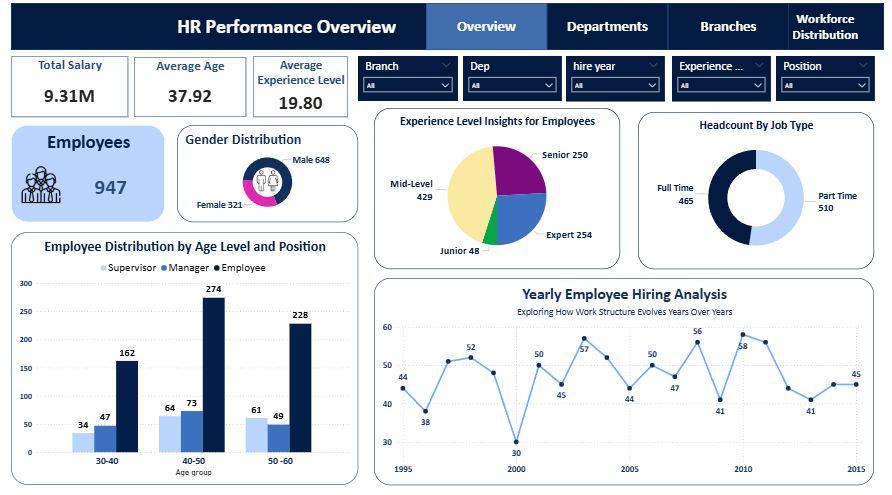

This screenshot's page, from the dashboard's own definition file:
{"tool":"powerbi","page":{"name":"HR Overview","canvas":[1610,900],"ordinal":1},"visuals":[{"type":"shape","box":[19.8,10.8,992.6,84.6],"z":0,"group":"g2"},{"type":"slicer","fields":{"Values":["Employee Database.Branch"]},"box":[643.5,106.6,179.9,80.8],"z":0,"group":"g1"},{"type":"slicer","fields":{"Values":["Employee Database.Position"]},"box":[1396,106.6,177.9,80.9],"z":0,"group":"g3"},{"type":"cardVisual","title":"Employees ","fields":{"Data":["Employee Database.Count of employees"]},"box":[19.8,230.4,277.2,174.6],"z":0},{"type":"shape","box":[767,10.8,217.8,84.6],"z":1000,"group":"g2"},{"type":"shape","box":[1380.6,10.8,210.6,84.6],"z":1000},{"type":"group","id":"g1","title":"Group 2","box":[643.5,106.6,743.6,80.9],"z":1000,"group":"g3"},{"type":"slicer","fields":{"Values":["Employee Database.Dep"]},"box":[832.6,106.6,177.9,80.8],"z":1000,"group":"g1"},{"type":"shape","box":[984.8,10.8,217.7,84.6],"z":2000,"group":"g2"},{"type":"card","title":"Average Experience Level","fields":{"Values":["Employee Database.average year of service"]},"box":[455.4,106.2,171,109.8],"z":2000},{"type":"slicer","fields":{"Values":["Employee Database.hire year"]},"box":[1018.6,106.6,178.4,81.6],"z":2000,"group":"g1"},{"type":"shape","box":[1202.5,10.8,217.7,84.6],"z":3000,"group":"g2"},{"type":"slicer","fields":{"Values":["Employee Database.Experience Level"]},"box":[1209.2,106.6,177.9,81.6],"z":3000,"group":"g1"},{"type":"clusteredColumnChart","title":"Employee Distribution by Age Level and Position","fields":{"Y":["Employee Database.Count of employees"],"Category":["Employee Database.Age group"],"Series":["Employee Database.Position"]},"box":[19.8,423,624.6,455.4],"z":3000},{"type":"lineChart","title":"Yearly Employee Hiring Analysis","fields":{"Category":["Employee Database.Hire date.Variation.Date Hierarchy.Year"],"Y":["Employee Database.Count of employees"]},"box":[673.2,505.8,900,372.6],"z":4000},{"type":"donutChart","title":"Gender Distribution","fields":{"Y":["Employee Database.Female","Employee Database.Male"]},"box":[318.6,230.4,325.8,174.6],"z":5000},{"type":"group","id":"g2","title":"Group 1","box":[19.8,10.8,1400.4,84.6],"z":6000},{"type":"image","box":[451.8,306,59.4,50.4],"z":7000},{"type":"donutChart","title":"Headcount By Job Type","fields":{"Category":["Employee Database.PayType"],"Y":["Employee Database.Count of employees"]},"box":[1148.4,207,424.8,282.6],"z":8000},{"type":"card","title":"Total Salary","fields":{"Values":["Sum(Employee Database.Salary)"]},"box":[19.8,106.2,210.6,109.8],"z":9000},{"type":"group","id":"g3","title":"Group 3","box":[643.5,106.6,930.4,80.9],"z":10000},{"type":"pieChart","title":"Experience Level Insights for Employees","fields":{"Category":["Employee Database.ExperienceLevel_Clean"],"Y":["Employee Database.Count of employees"]},"box":[673.2,199.8,442.8,289.8],"z":11000},{"type":"card","title":"Average Age","fields":{"Values":["Employee Database.Average Age"]},"box":[241.2,108,201.6,108],"z":12000}]}

Visuals, with their boxes in screenshot pixels (x1, y1, x2, y2), scaled from the page's 1610x900 canvas onto the 892x495 screenshot:
shape: pyautogui.locateOnScreen(11, 6, 561, 52)
slicer - Employee Database.Branch: pyautogui.locateOnScreen(357, 59, 456, 103)
slicer - Employee Database.Position: pyautogui.locateOnScreen(773, 59, 872, 103)
"Employees " cardVisual: pyautogui.locateOnScreen(11, 127, 165, 223)
shape: pyautogui.locateOnScreen(425, 6, 546, 52)
shape: pyautogui.locateOnScreen(765, 6, 882, 52)
"Group 2" group: pyautogui.locateOnScreen(357, 59, 769, 103)
slicer - Employee Database.Dep: pyautogui.locateOnScreen(461, 59, 560, 103)
shape: pyautogui.locateOnScreen(546, 6, 666, 52)
"Average Experience Level" card: pyautogui.locateOnScreen(252, 58, 347, 119)
slicer - Employee Database.hire year: pyautogui.locateOnScreen(564, 59, 663, 104)
shape: pyautogui.locateOnScreen(666, 6, 787, 52)
slicer - Employee Database.Experience Level: pyautogui.locateOnScreen(670, 59, 769, 104)
"Employee Distribution by Age Level and Position" clusteredColumnChart: pyautogui.locateOnScreen(11, 233, 357, 483)
"Yearly Employee Hiring Analysis" lineChart: pyautogui.locateOnScreen(373, 278, 872, 483)
"Gender Distribution" donutChart: pyautogui.locateOnScreen(177, 127, 357, 223)
"Group 1" group: pyautogui.locateOnScreen(11, 6, 787, 52)
image: pyautogui.locateOnScreen(250, 168, 283, 196)
"Headcount By Job Type" donutChart: pyautogui.locateOnScreen(636, 114, 872, 269)
"Total Salary" card: pyautogui.locateOnScreen(11, 58, 128, 119)
"Group 3" group: pyautogui.locateOnScreen(357, 59, 872, 103)
"Experience Level Insights for Employees" pieChart: pyautogui.locateOnScreen(373, 110, 618, 269)
"Average Age" card: pyautogui.locateOnScreen(134, 59, 245, 119)
